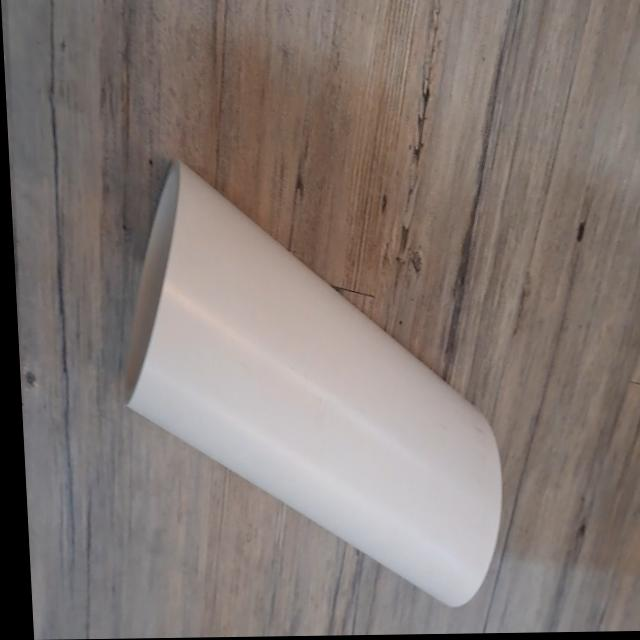CORAL: (106, 132, 514, 626)
